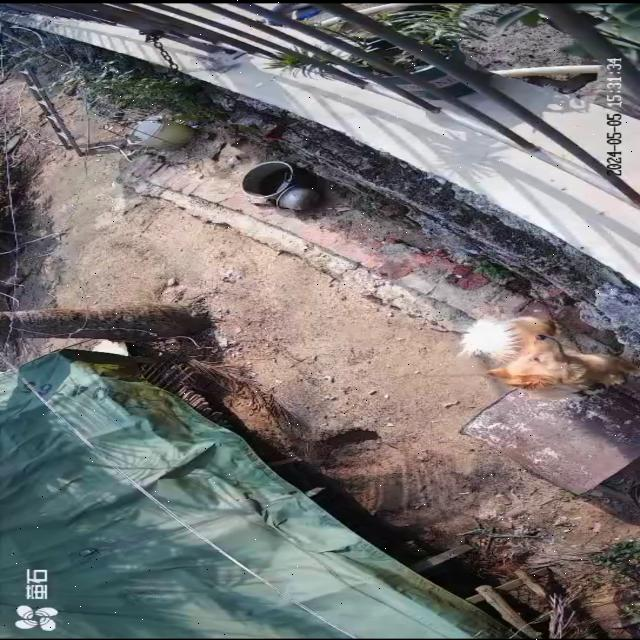dog: (457, 316, 640, 402)
